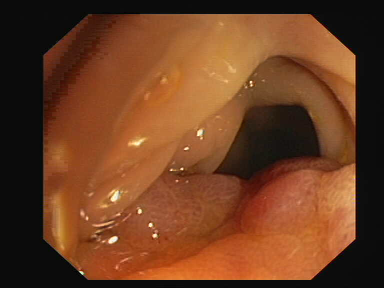polyp: (242, 142, 336, 228)
